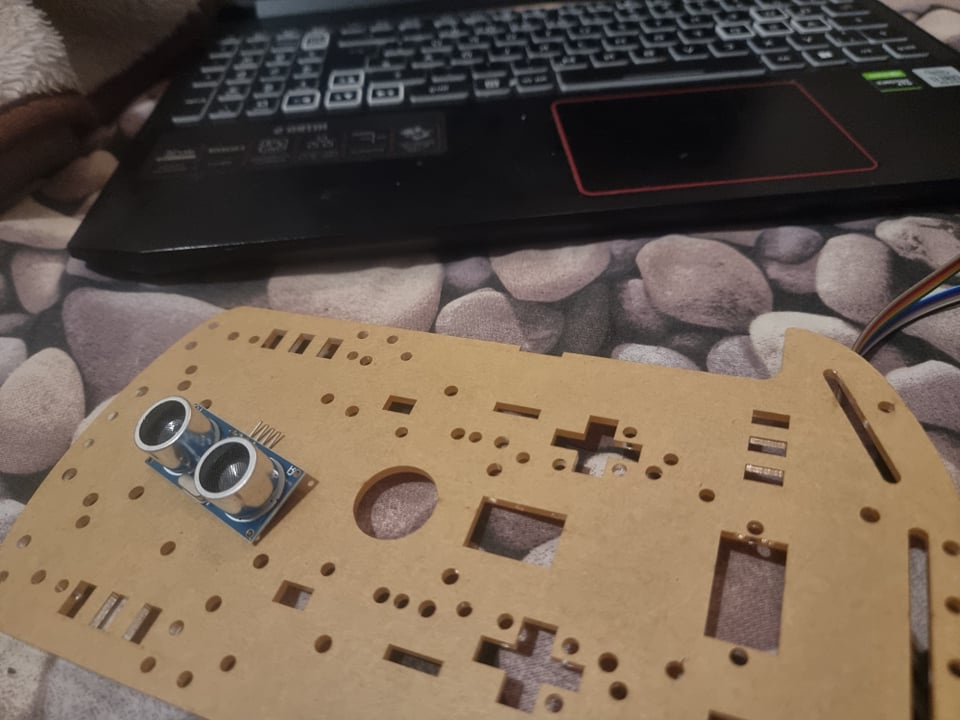SENSOR: (139, 396, 307, 545)
